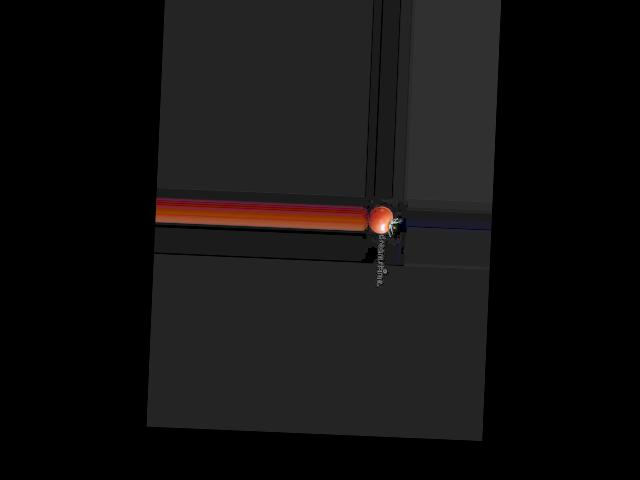tomato: (368, 206, 393, 234)
